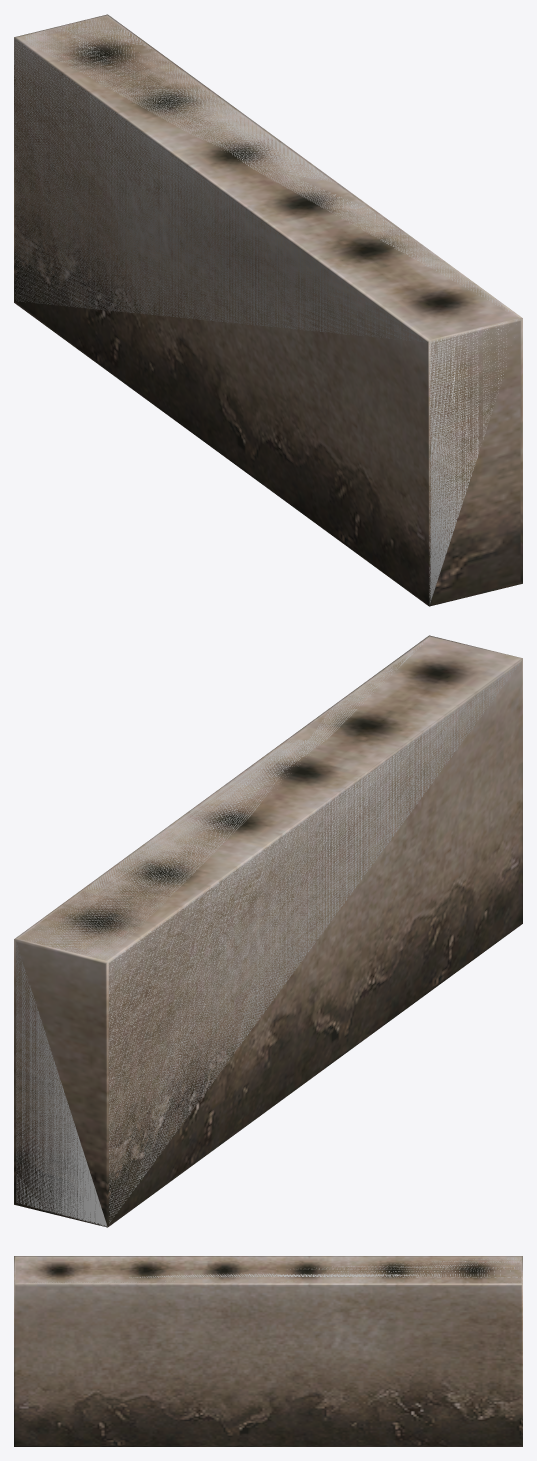
Rendered from stwa11.dae.
3 renders of one model, top to bottom at view 1: azimuth 30°, elevation 25°; view 2: azimuth 150°, elevation 25°; view 3: azimuth 270°, elevation 25°, orthographic. The views are drawn at different scales.
Visible parts, largest first — view 1: wall1, crown1; view 2: wall1, crown1; view 3: wall1, crown1.
Boxes of the visible parts, <box> form: wall1: <box>14,14,522,606</box>; crown1: <box>14,18,521,604</box>; wall1: <box>14,635,522,1227</box>; crown1: <box>16,638,518,1226</box>; wall1: <box>14,1256,522,1446</box>; crown1: <box>35,1258,521,1282</box>.
Bounding box in the file's own units: 0.3932 × 3.01 × 1.06.
2 materials, 1 textured.
